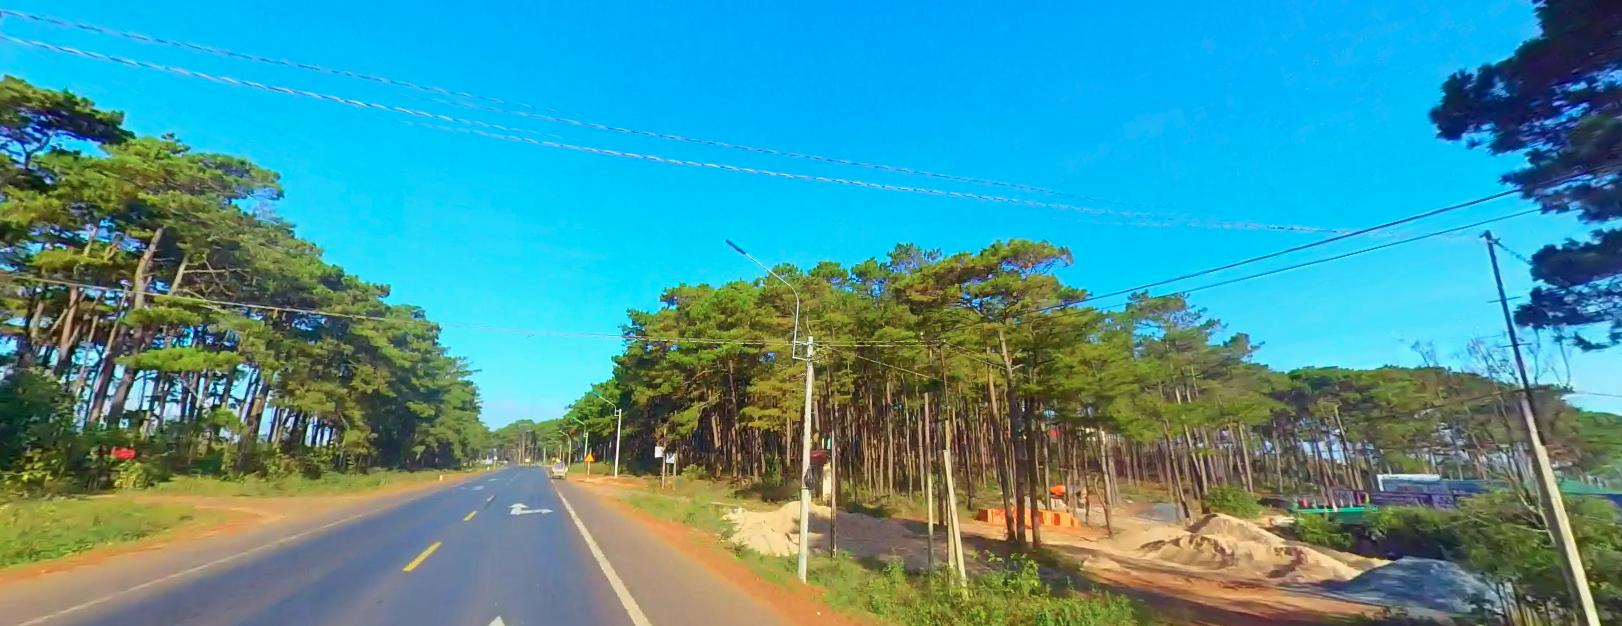Nguy hiem: (584, 450, 594, 460), (584, 450, 594, 459)
